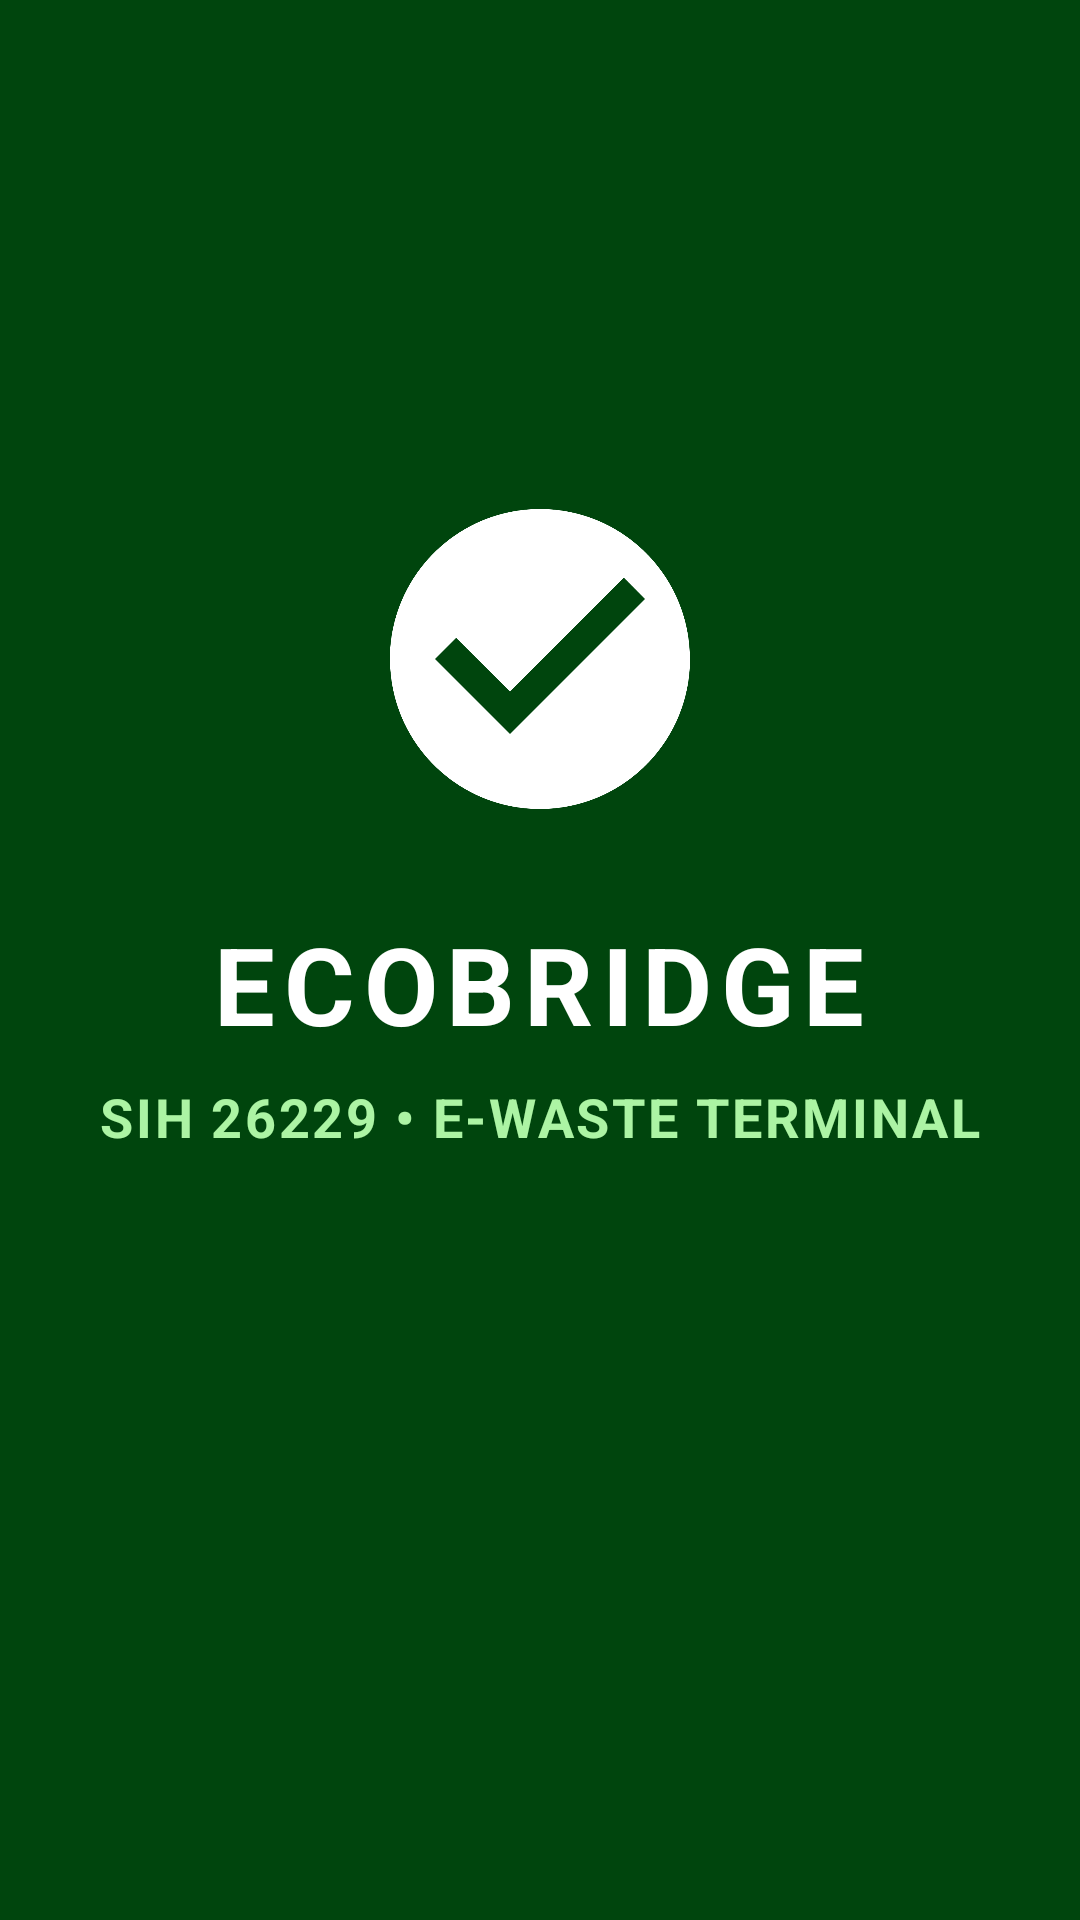

Icon click points for this 1080 x 1920 phone screenshot, format point (x, y):
check circle: point (540, 659)
